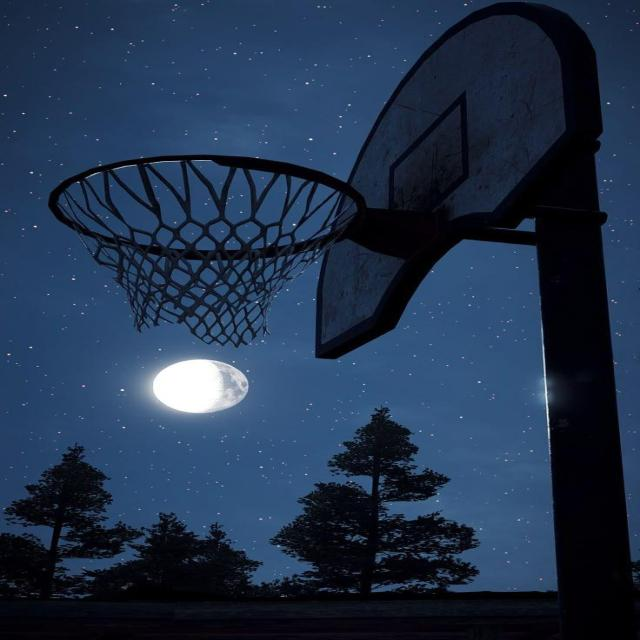hoop: (25, 149, 436, 336)
